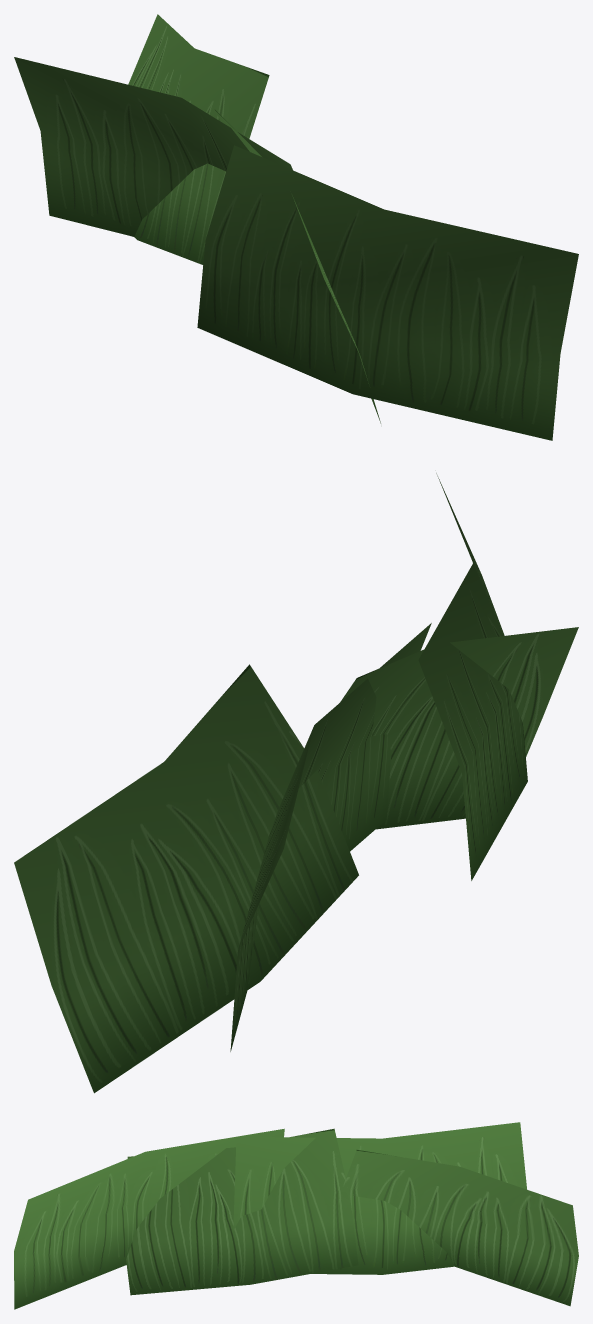
The model's file is GrassPatch3.fbx.
3 renders of one model, top to bottom at view 1: azimuth 30°, elevation 25°; view 2: azimuth 150°, elevation 25°; view 3: azimuth 270°, elevation 25°, orthographic. The views are drawn at different scales.
Parts seen in each view (by area): view 1: GrassPatch_3; view 2: GrassPatch_3; view 3: GrassPatch_3.
Boxes of the visible parts, x1=… form: GrassPatch_3: x1=14, y1=14, x2=578, y2=440; GrassPatch_3: x1=14, y1=473, x2=578, y2=1093; GrassPatch_3: x1=14, y1=1122, x2=578, y2=1309.
Size of the model in its own units: 108 by 107 by 333.
